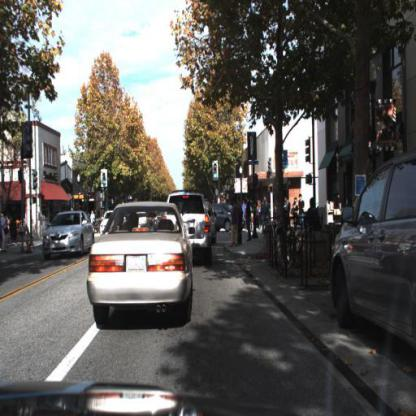car: (331, 142, 416, 361), (88, 200, 196, 328), (167, 190, 213, 265), (41, 211, 96, 259), (209, 199, 247, 234), (210, 200, 246, 236), (99, 207, 118, 238)
pedestrian: (230, 195, 242, 247), (243, 195, 255, 242), (303, 195, 321, 226), (260, 194, 271, 240), (1, 207, 12, 252), (237, 194, 244, 251), (299, 192, 305, 228)
trafficLight-Green: (213, 159, 221, 183), (100, 168, 108, 189)
